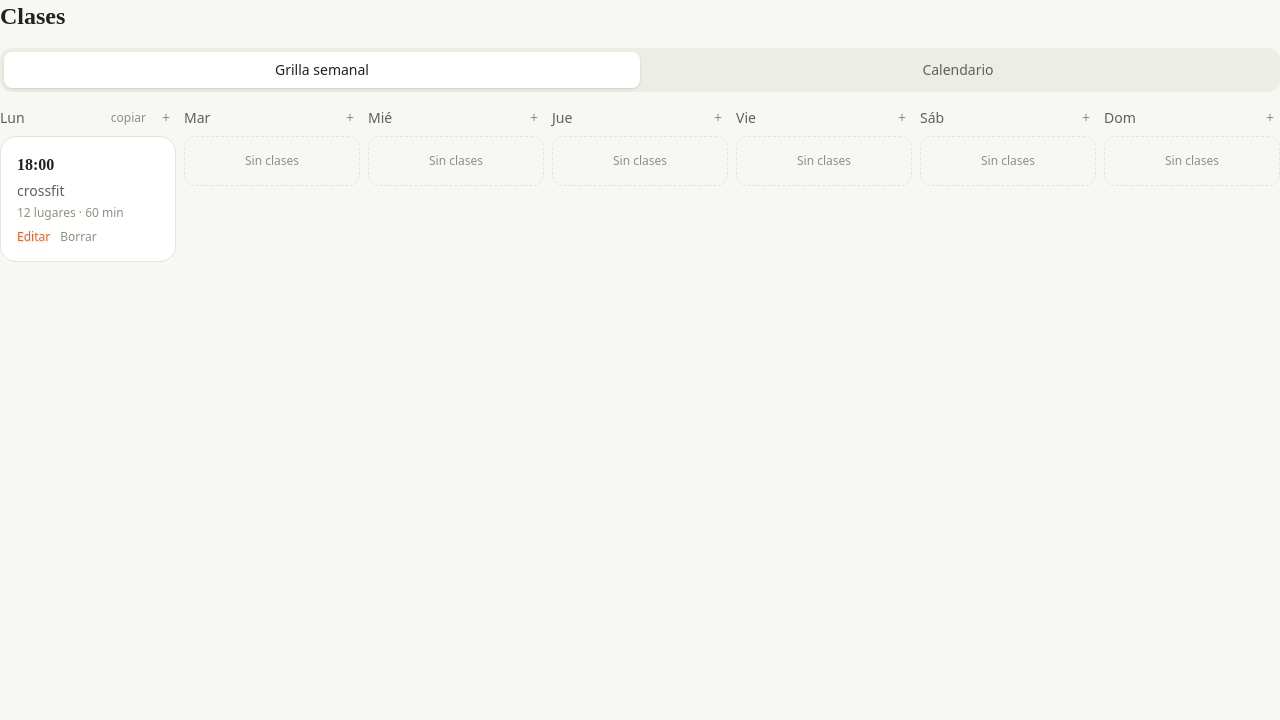
Test: Classes — grilla semanal (F3-06) › borrar muestra el desglose de lo que se fue y lo que quedó
Click the button "Borrar".
click(78, 237)  # box [54,229,103,245]
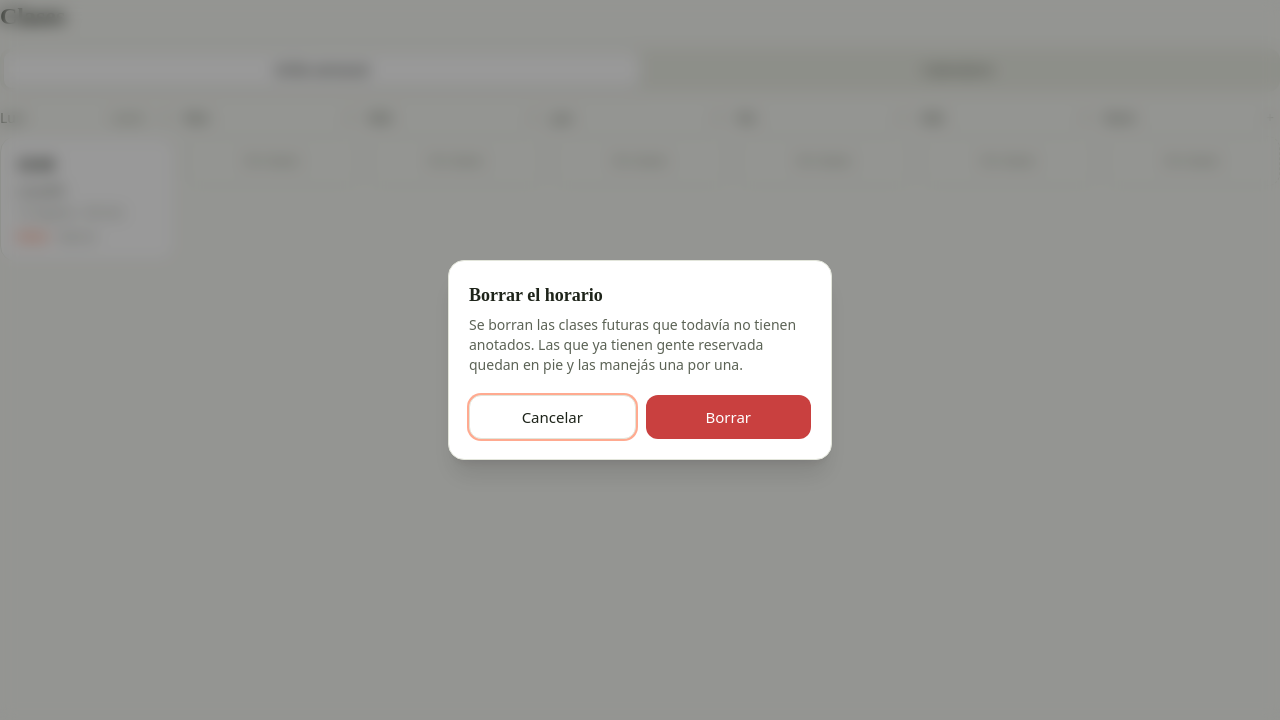
expect the text "Las que ya tienen gente reservada quedan en pie" is shown: met, box [469,315,796,374]
Click the button "Borrar".
click(728, 417)  # box [646,395,811,439]
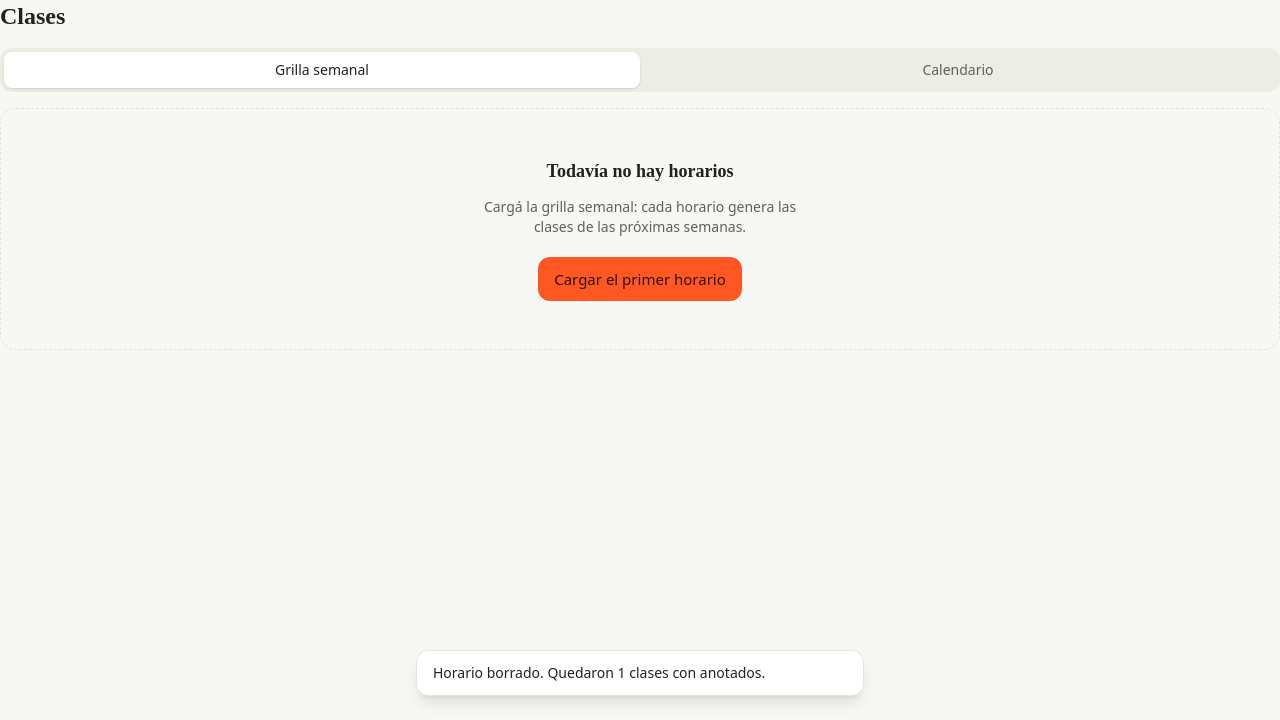
expect the text "Horario borrado. Quedaron 1 clases con anotados." is shown: met, box [416,650,864,696]
